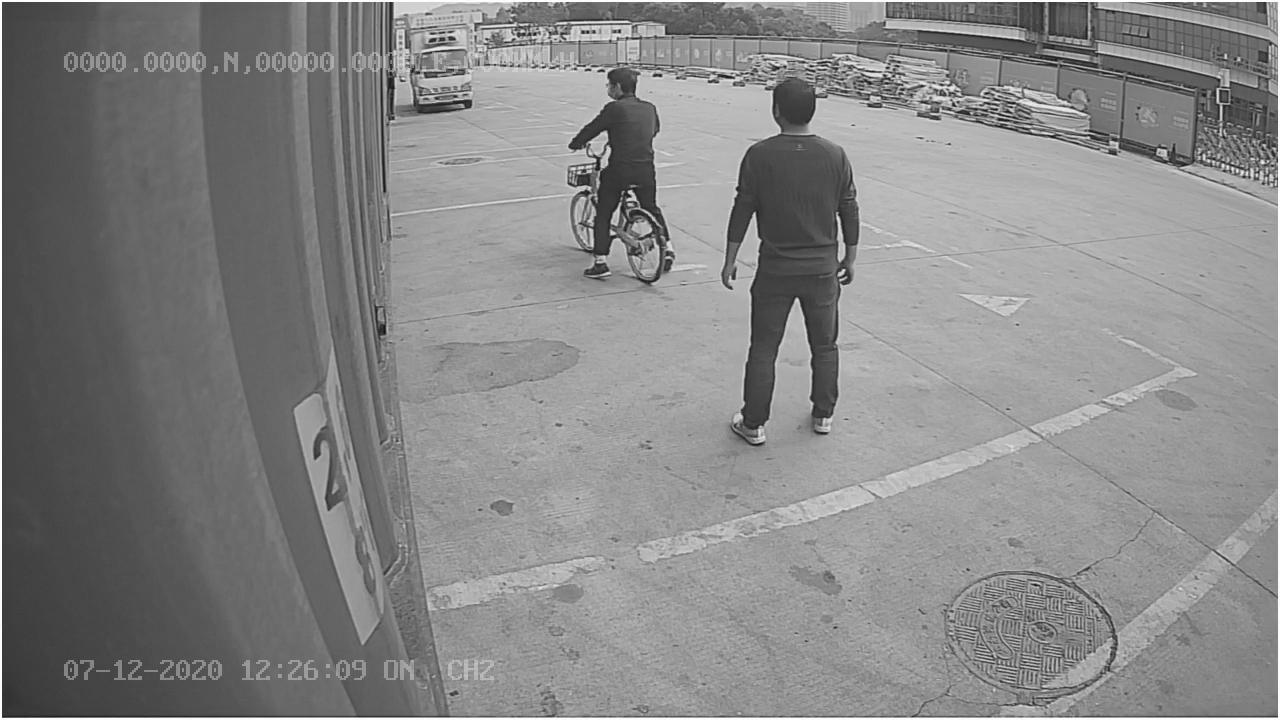person: (716, 71, 866, 451)
